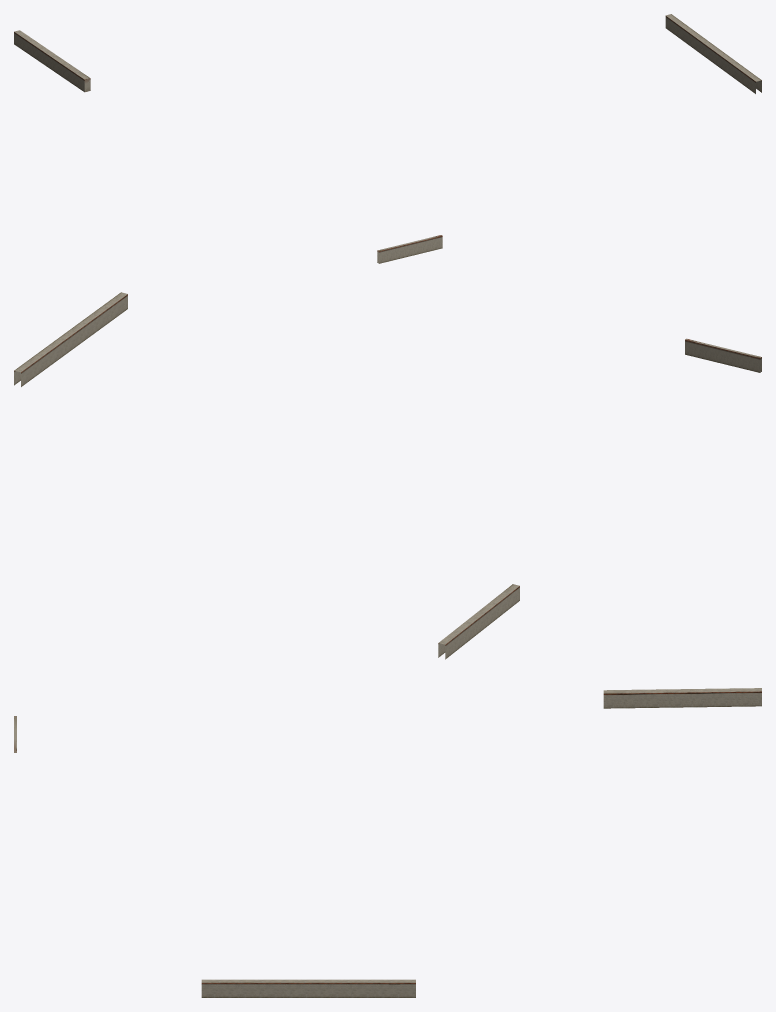
Rendered from vgnhseing8282.obj.
The picture shows the model from 3 angles, top to bottom: view 1: azimuth 30°, elevation 25°; view 2: azimuth 150°, elevation 25°; view 3: azimuth 270°, elevation 25°; orthographic projection. The views are drawn at different scales.
Visible parts, largest first — view 1: vgnhseing8282; view 2: vgnhseing8282; view 3: vgnhseing8282.
Boxes of the visible parts, box(x1,y1,x2,y2) form: vgnhseing8282: box(14, 14, 761, 263); vgnhseing8282: box(14, 292, 761, 659); vgnhseing8282: box(14, 688, 761, 997).
Bounding box in the file's own units: 82.56 × 1.95 × 88.5.
1 material, 1 textured.
